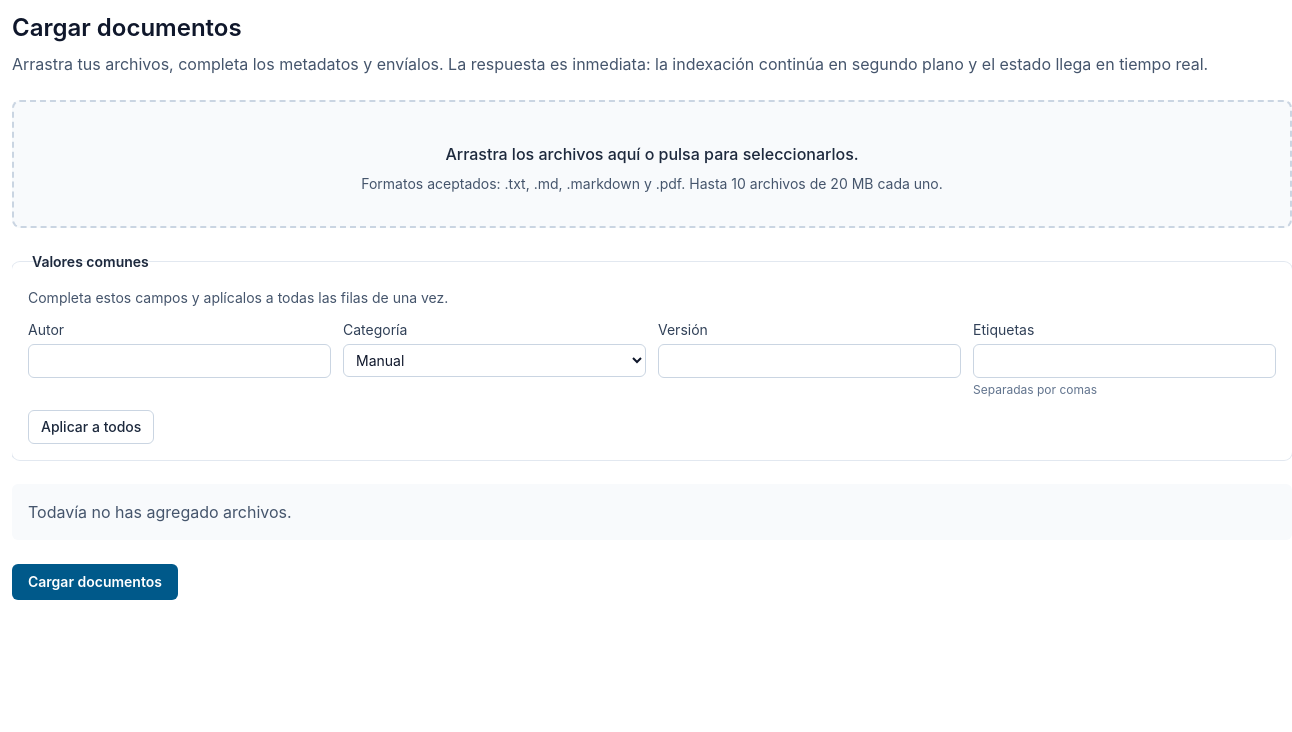
UploadPage › asks for at least one file before submitting an empty form
The width and height of the screenshot is (1292, 732).
Click the button "Cargar documentos" at (95, 582), box left=12, top=564, right=178, bottom=600
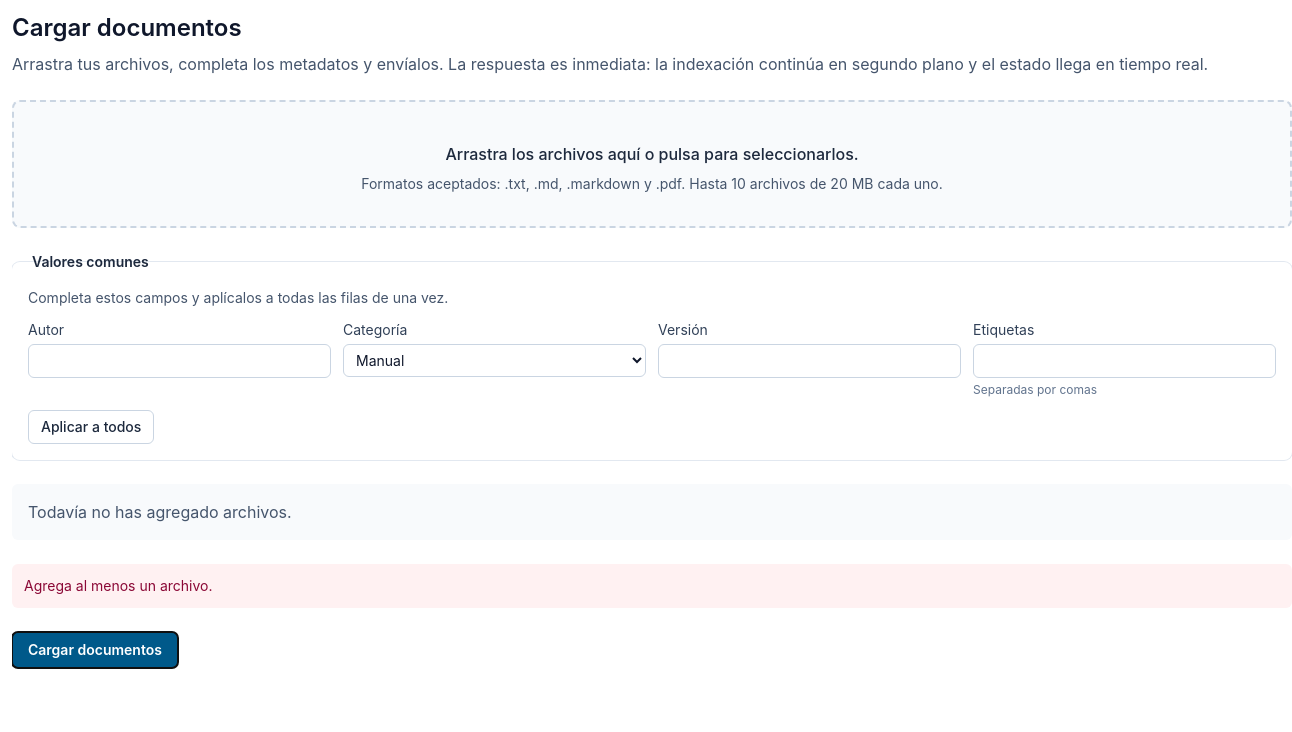
Expected: the message reads "Agrega al menos un archivo.", left=24, top=577, right=212, bottom=594
